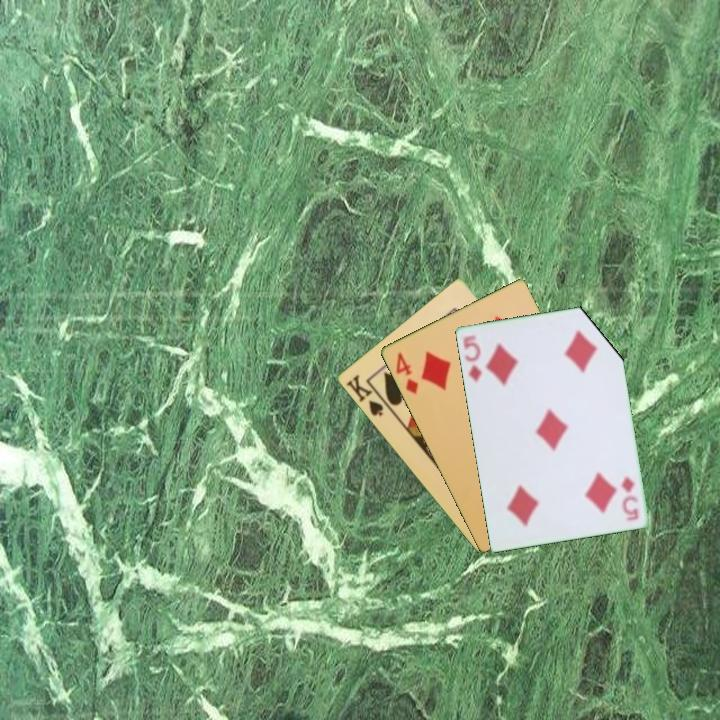4d: (392, 349, 421, 397)
5d: (459, 331, 484, 385), (616, 473, 642, 523)
Ks: (342, 371, 386, 419)
